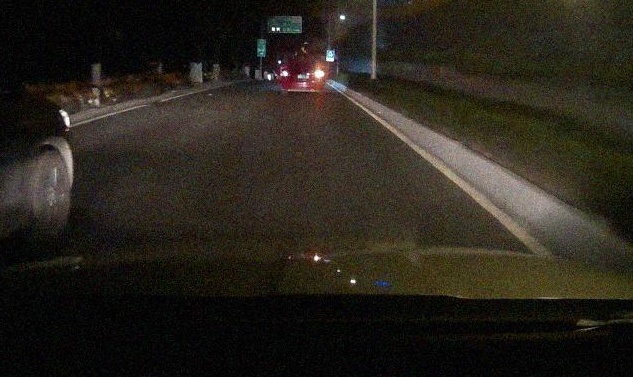L_light: (281, 71, 290, 77)
R_light: (314, 70, 325, 80)
T_light: (299, 61, 307, 62)
night-right: (281, 59, 325, 95)
